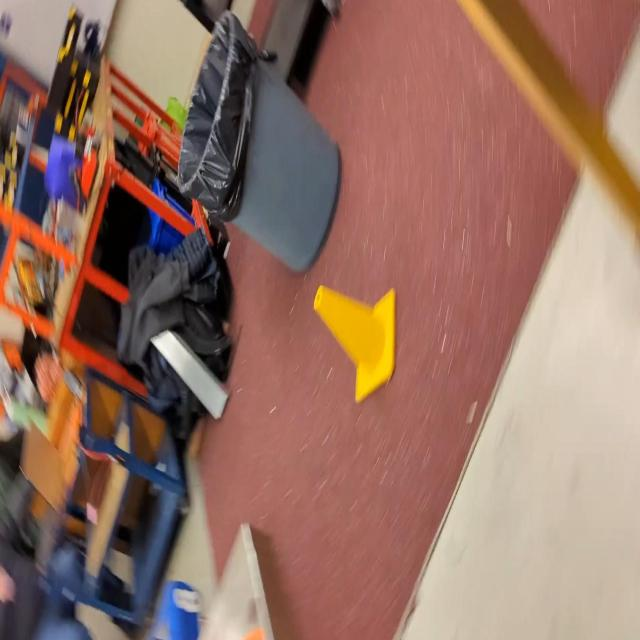frc_cone: (313, 281, 397, 399)
